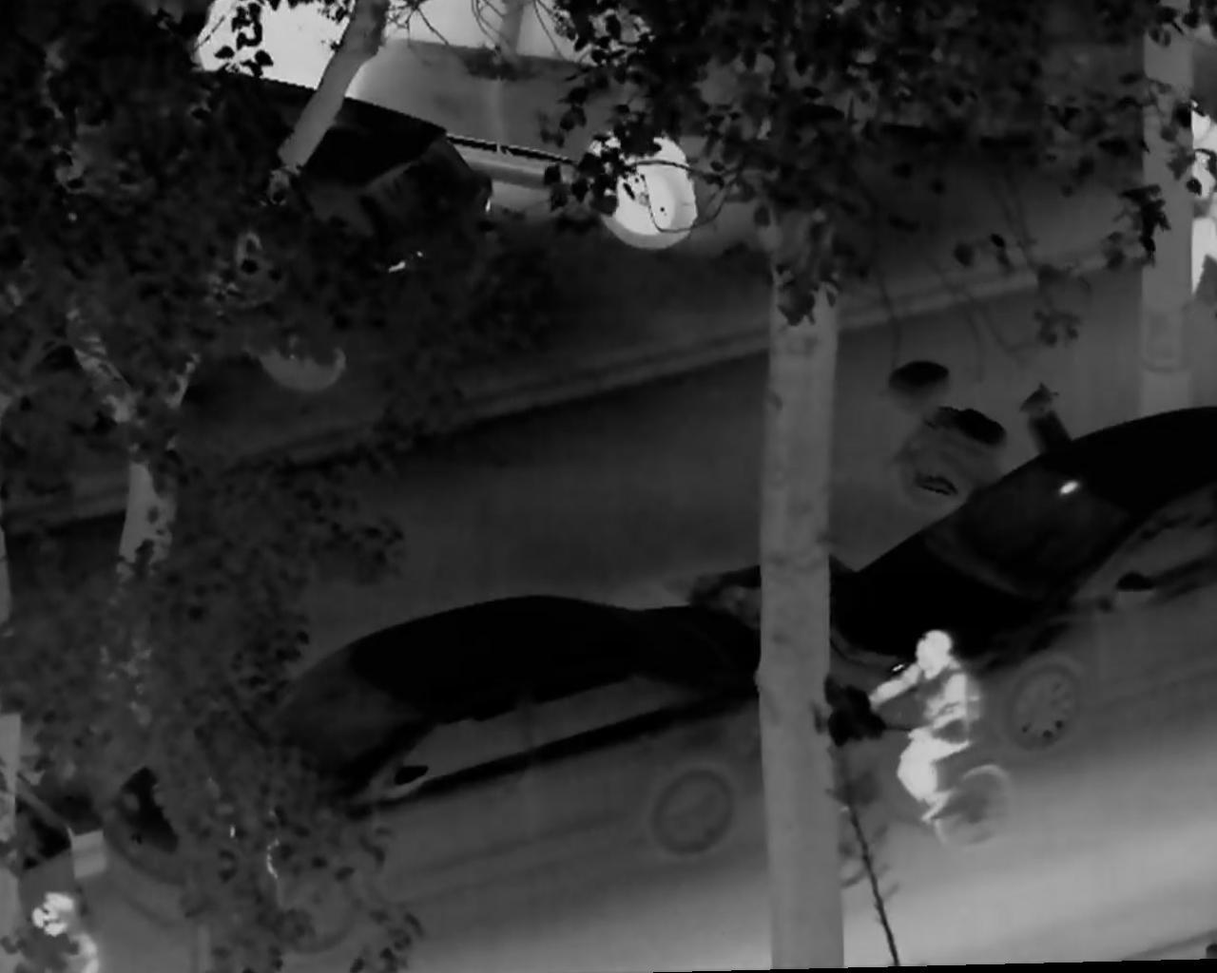person: (858, 619, 981, 833), (1179, 98, 1217, 301), (26, 883, 106, 973)
